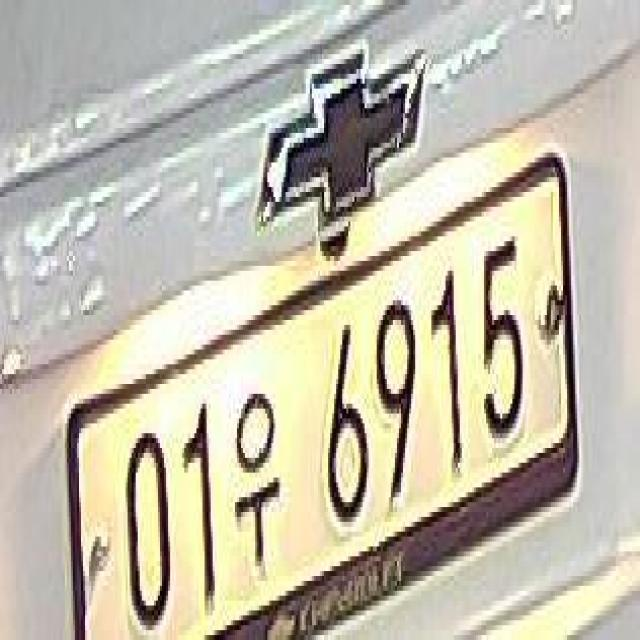illegal_plate: (66, 170, 578, 634)
